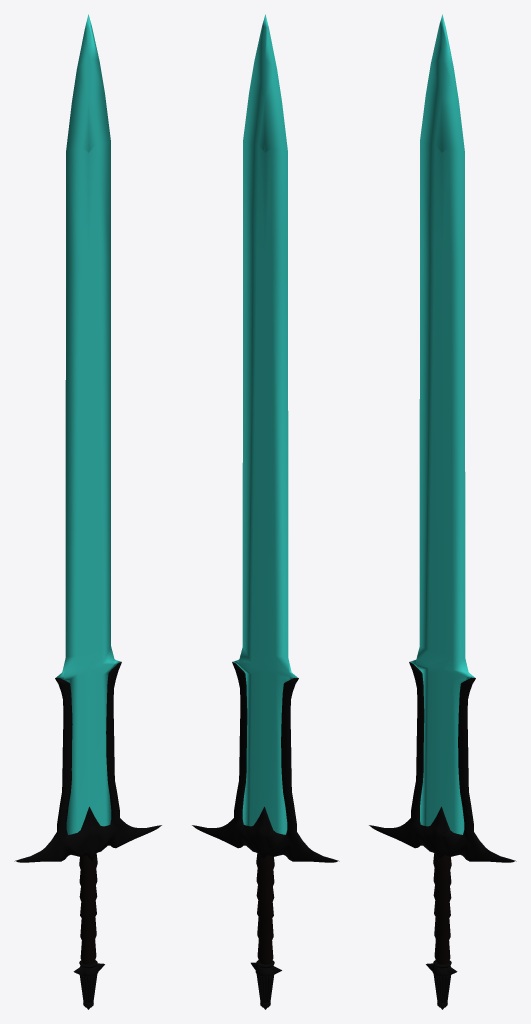
3 renders of one model, left to right at view 1: azimuth 30°, elevation 25°; view 2: azimuth 150°, elevation 25°; view 3: azimuth 330°, elevation 25°, orthographic.
Parts seen in each view (by area): view 1: Occiglacies (×3); view 2: Occiglacies (×3); view 3: Occiglacies (×3).
Boxes of the visible parts, x1=… form: Occiglacies (×3): x1=14, y1=14, x2=161, y2=1009; Occiglacies (×3): x1=192, y1=14, x2=339, y2=1009; Occiglacies (×3): x1=369, y1=14, x2=516, y2=1009.
Size of the model in its own units: 0.3118 by 2 by 0.0372.
